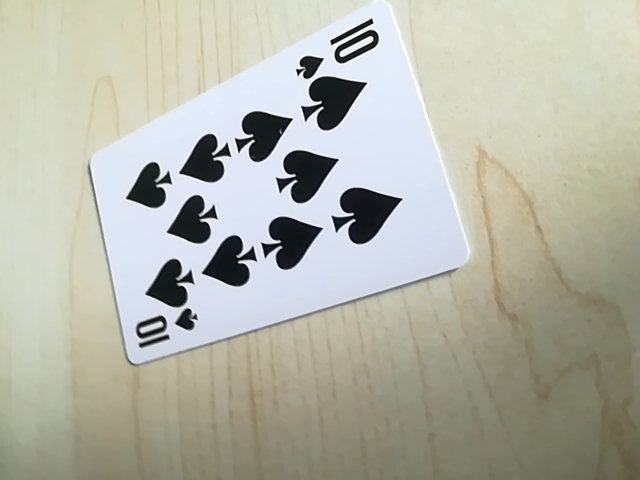ht 10: (294, 11, 389, 74), (129, 303, 200, 359)
